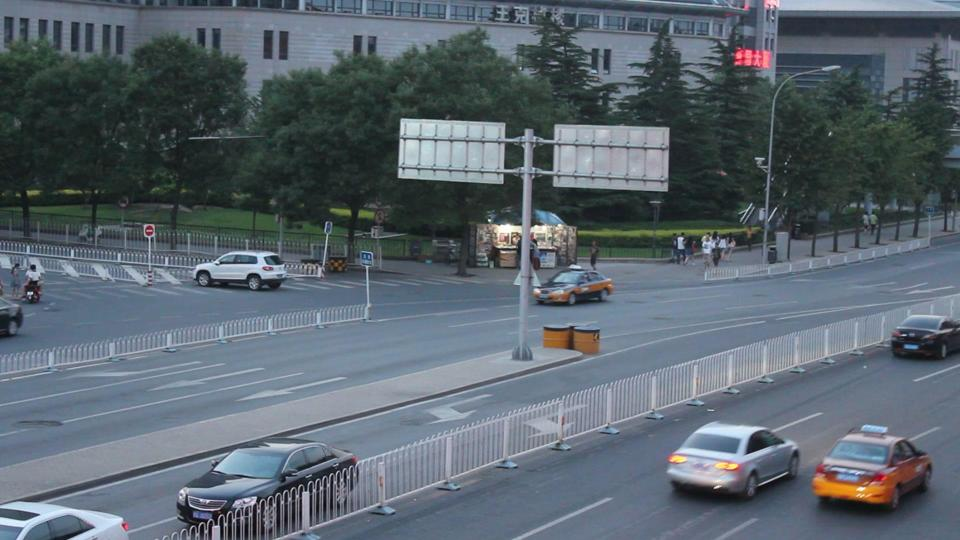Car: (177, 436, 360, 522), (665, 419, 800, 496), (808, 424, 931, 508), (1, 496, 128, 540), (192, 252, 287, 289), (889, 312, 960, 358), (532, 266, 613, 304), (1, 290, 24, 337)
